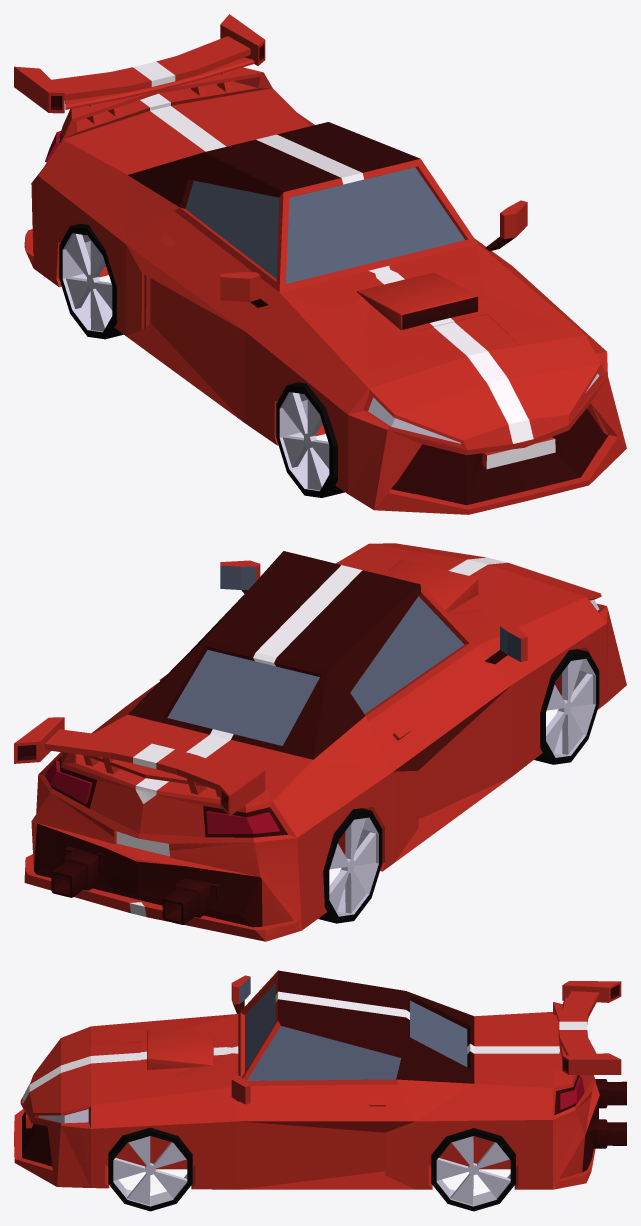
Rendered from car2.fbx.
3 views of the same model, one above another, from view 1: azimuth 30°, elevation 25°; view 2: azimuth 150°, elevation 25°; view 3: azimuth 270°, elevation 25° (orthographic). The views are drawn at different scales.
Parts seen in each view (by area): view 1: carcas, bumper3, engine2, engine, bumper, engine3, spoiler3, Sports wheel front right, Sports wheel rear right, bumper2, spoiler, spoiler2; view 2: carcas, bumper3, bumper, spoiler3, Sports wheel front right, Sports wheel rear right, engine2, engine, engine3, bumper2, spoiler; view 3: carcas, bumper3, bumper, engine2, engine, Sports wheel front left, Sports wheel rear left, spoiler3, bumper2, engine3, spoiler.
Boxes of the visible parts, <box> form: carcas: <box>33,81,607,493</box>; bumper3: <box>24,167,626,514</box>; engine2: <box>282,244,600,440</box>; engine: <box>279,244,600,439</box>; bumper: <box>144,177,608,493</box>; engine3: <box>281,245,596,439</box>; spoiler3: <box>14,14,265,116</box>; Sports wheel front right: <box>276,382,344,497</box>; Sports wheel rear right: <box>59,224,123,339</box>; bumper2: <box>167,180,605,506</box>; spoiler: <box>62,67,272,138</box>; spoiler2: <box>65,57,254,123</box>; carcas: <box>38,551,607,930</box>; bumper3: <box>24,560,626,941</box>; bumper: <box>54,574,607,871</box>; spoiler3: <box>14,717,265,816</box>; Sports wheel front right: <box>534,649,599,764</box>; Sports wheel rear right: <box>318,808,382,923</box>; engine2: <box>374,543,598,636</box>; engine: <box>336,543,600,645</box>; engine3: <box>366,544,585,627</box>; bumper2: <box>57,575,607,899</box>; spoiler: <box>62,752,272,807</box>; carcas: <box>22,970,595,1189</box>; bumper3: <box>14,975,626,1189</box>; bumper: <box>20,983,593,1189</box>; engine2: <box>29,1014,238,1112</box>; engine: <box>29,1014,238,1112</box>; Sports wheel front left: <box>108,1127,192,1211</box>; Sports wheel rear left: <box>431,1128,515,1211</box>; spoiler3: <box>559,981,621,1074</box>; bumper2: <box>19,987,594,1187</box>; engine3: <box>33,1015,238,1112</box>; spoiler: <box>553,1002,572,1087</box>.
Bounding box in the file's own units: 2.63 × 1.84 × 6.11.
